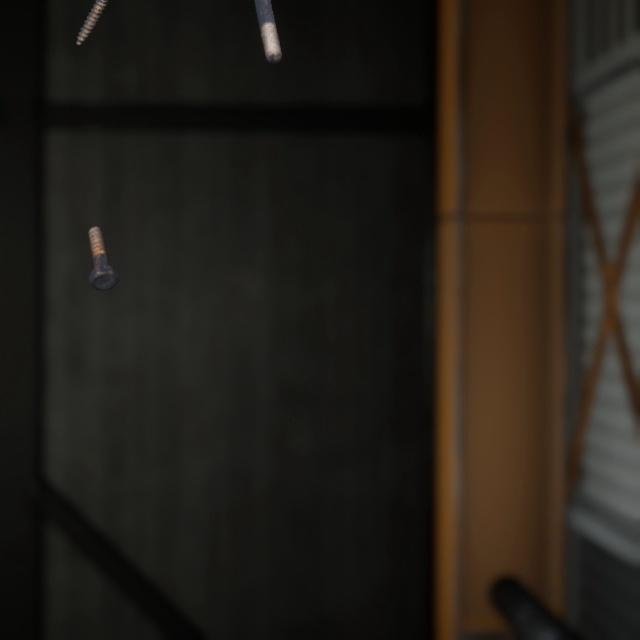bolt: (83, 206, 123, 278), (251, 0, 286, 59), (71, 0, 109, 42)
